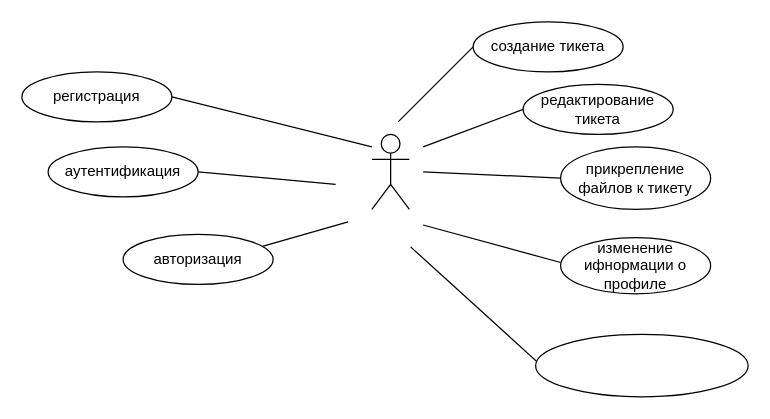
Some shapes in this 770 by 419 pixel diagram are drawn without their labels. The centre of each missing label's shape, as x and y in pixels:
"Admin" goes at (390,171).
"создание и редактирование колонки" goes at (641,365).
